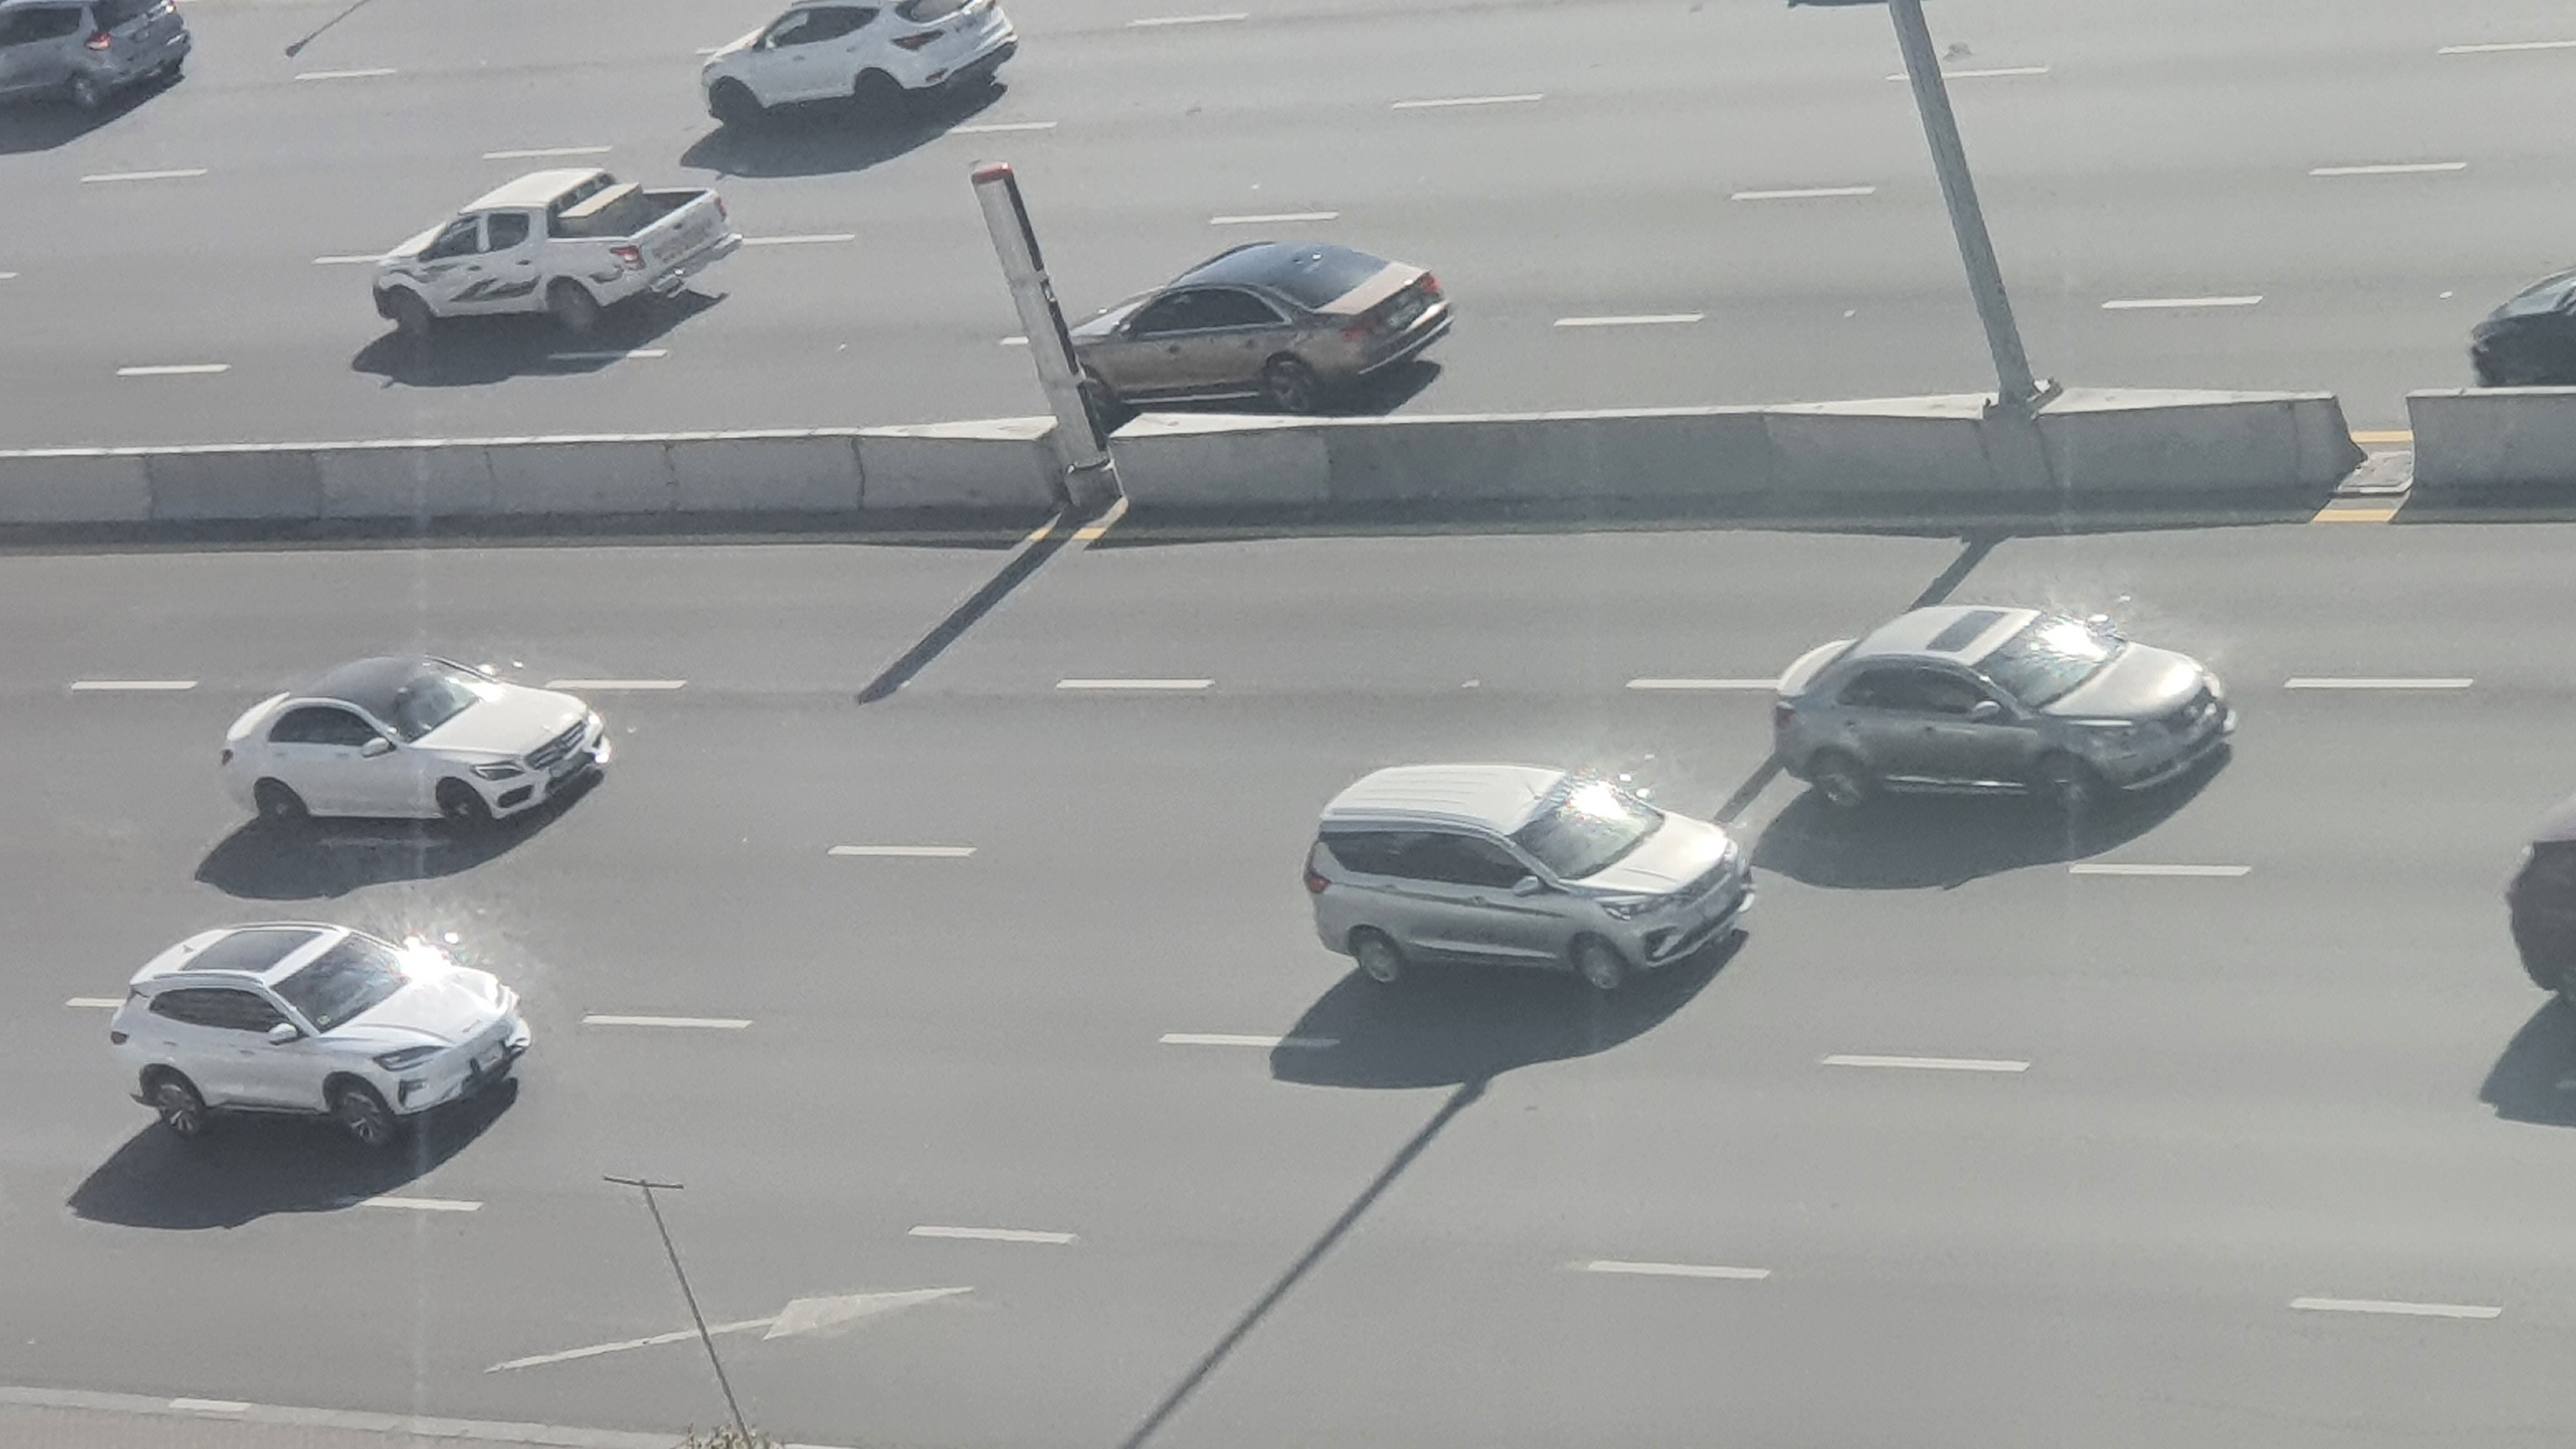NotSunroof: (1302, 759, 1752, 1007)
Sunroof: (1778, 598, 2229, 832), (106, 913, 540, 1154), (209, 646, 617, 828)
